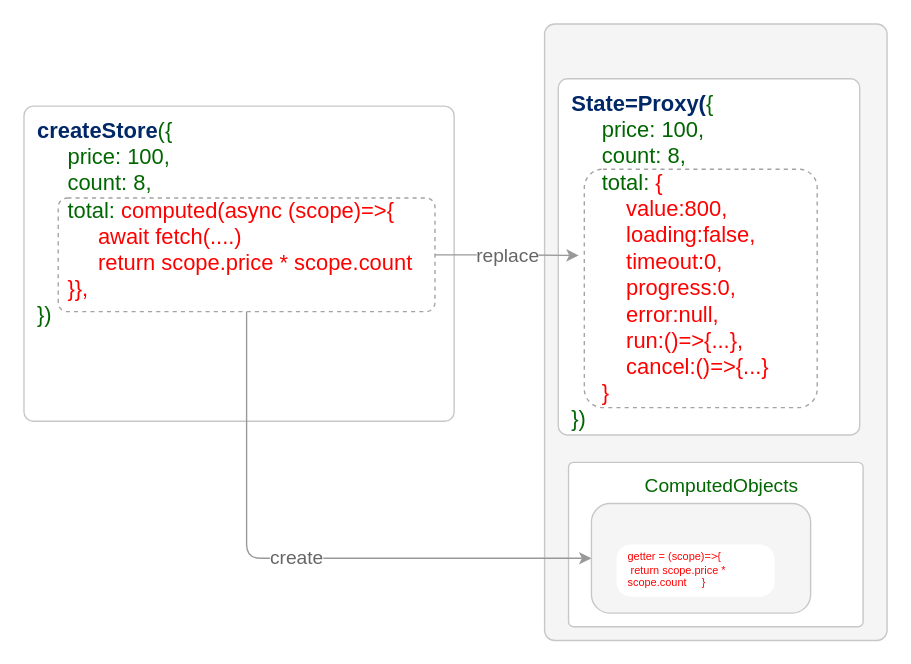
Some shapes in this 911 by 664 pixel diagram are drawn without their labels. The shapes that lost their labels are listed below. From the top down, each one's box as (x1, y1, x2, y2) in pixels, then its label:
(543, 23, 887, 640): AutoStore Instance
(590, 502, 811, 613): computedObject - total
